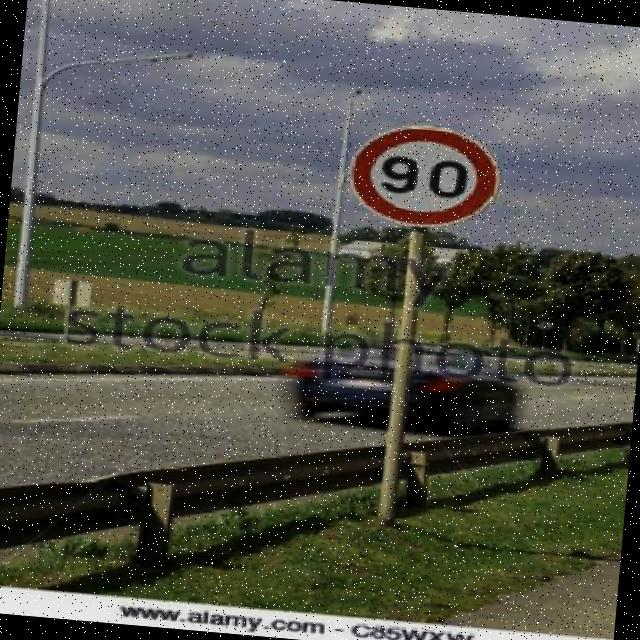Ograniczenie predkosci do 90: (348, 118, 503, 230)
